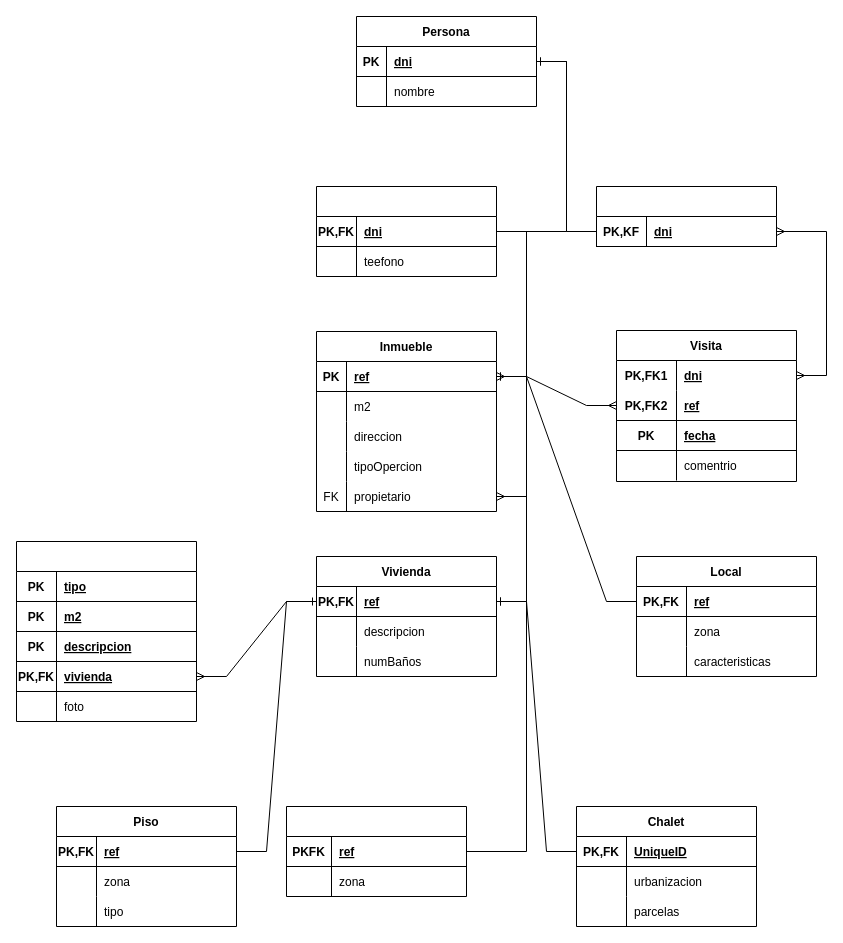
This 843x943 diagram has some shape labels left out. Each missing label, with the box of its shape:
casa: (286, 806, 466, 896)
Cliente: (596, 186, 776, 246)
Habitaciones: (16, 540, 196, 722)
Propietrio: (316, 186, 496, 276)
